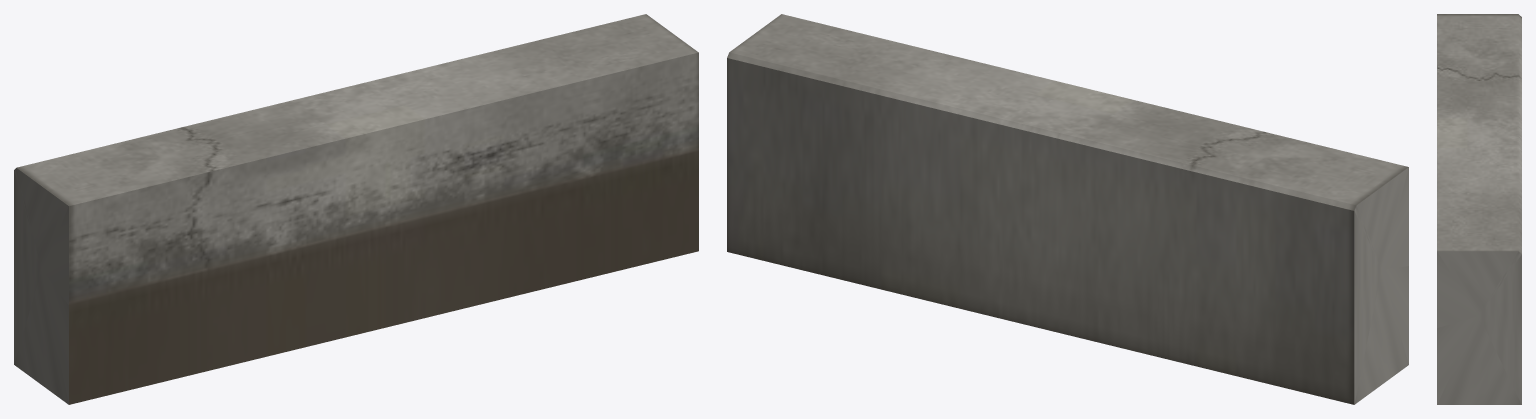
Rendered from curb_broken_lod2_web.glb.
3 views of the same model, side by side, from view 1: azimuth 30°, elevation 25°; view 2: azimuth 150°, elevation 25°; view 3: azimuth 270°, elevation 25° (orthographic). The views are drawn at different scales.
Parts seen in each view (by area): view 1: curb_broken_Mesh; view 2: curb_broken_Mesh; view 3: curb_broken_Mesh.
Part boxes in pixels (left/top/right/bottom): curb_broken_Mesh: left=14, top=14, right=698, bottom=404; curb_broken_Mesh: left=727, top=14, right=1408, bottom=404; curb_broken_Mesh: left=1437, top=14, right=1521, bottom=404.
Size of the model in its own units: 0.995 by 0.3 by 0.15.
Materials: 1 (1 with a texture image).
